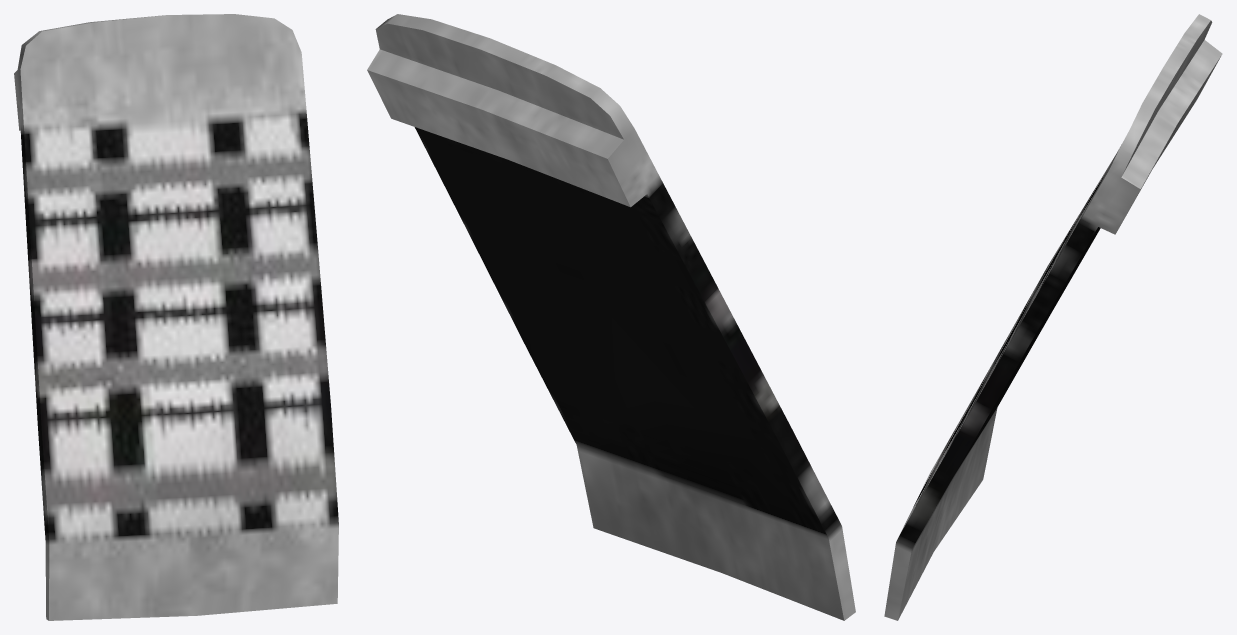
Rendered from shoulderarmor-championguardhousesoldiers.glb.
The picture shows the model from 3 angles, left to right: view 1: azimuth 30°, elevation 25°; view 2: azimuth 150°, elevation 25°; view 3: azimuth 270°, elevation 25°; orthographic projection. The views are drawn at different scales.
Bounding box in the file's own units: 0.2539 × 0.3819 × 0.2193.
Materials: 1 (1 with a texture image).
